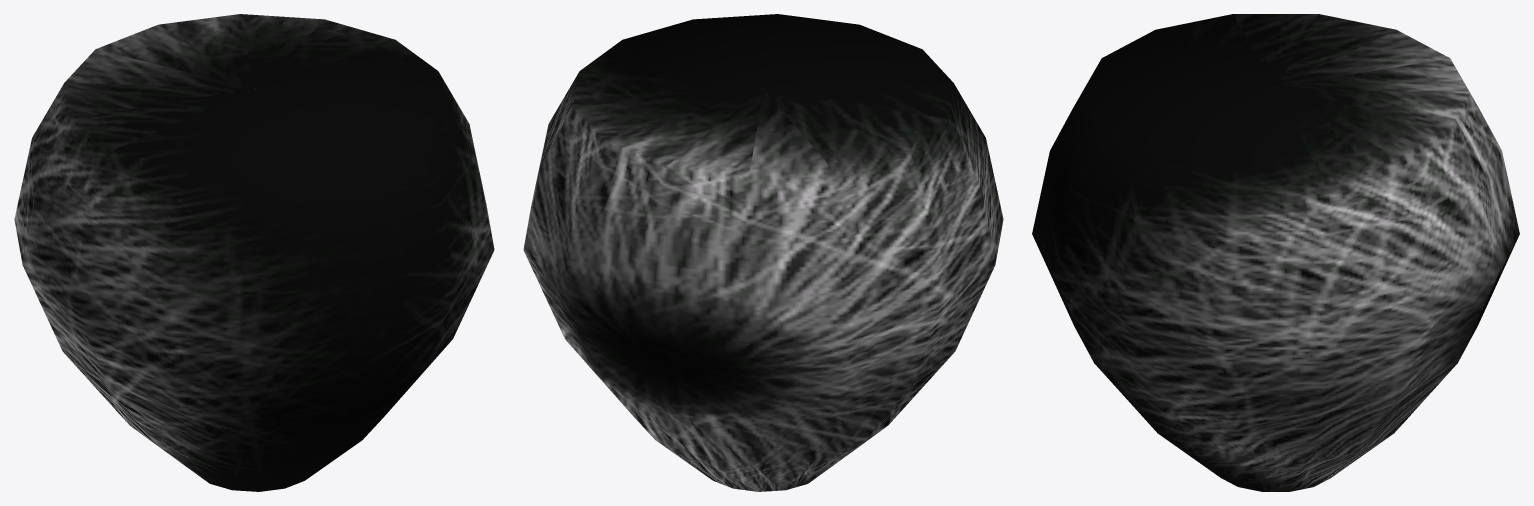
File: INST_SB_PLATFORM_COCOON.fbx
The picture shows the model from 3 angles, left to right: view 1: azimuth 30°, elevation 25°; view 2: azimuth 150°, elevation 25°; view 3: azimuth 270°, elevation 25°; orthographic projection.
Parts seen in each view (by area): view 1: INST_SB_PLATFORM_COCOON; view 2: INST_SB_PLATFORM_COCOON; view 3: INST_SB_PLATFORM_COCOON.
Boxes of the visible parts, x1,y1,x2,y2 form: INST_SB_PLATFORM_COCOON: [14, 14, 494, 491]; INST_SB_PLATFORM_COCOON: [523, 14, 1003, 491]; INST_SB_PLATFORM_COCOON: [1032, 14, 1519, 491].
Size of the model in its own units: 15745 by 14612 by 16149.
1 material, 1 textured.
